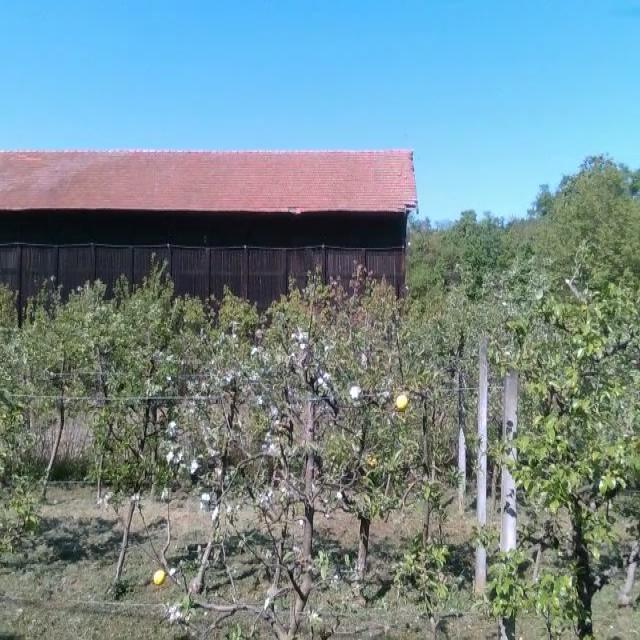yellow: (151, 567, 166, 587), (395, 394, 408, 410)
